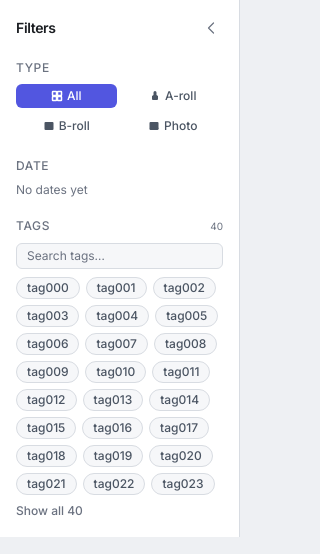
Test: Filters › filters tags by the search box
Type "tag039" into the field with placeholder "Search tags…" at coordinates (120, 256), box [16, 243, 223, 269]
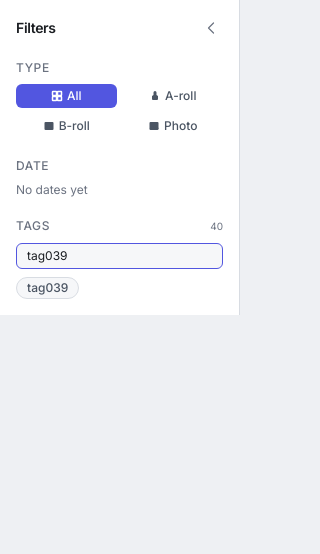
Now the button "tag039" is shown, box [16, 277, 79, 299]
Now the button "tag000" is gone
